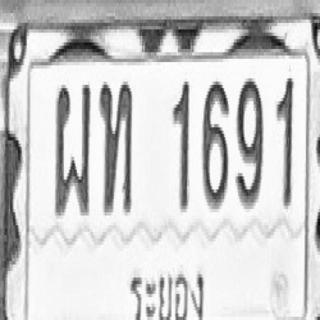A23: (99, 80, 132, 214)
A28: (54, 81, 90, 216)
N01: (172, 78, 190, 209), (275, 75, 293, 206)
N06: (202, 78, 228, 209)
N09: (236, 75, 263, 206)
P53: (128, 262, 217, 320)
